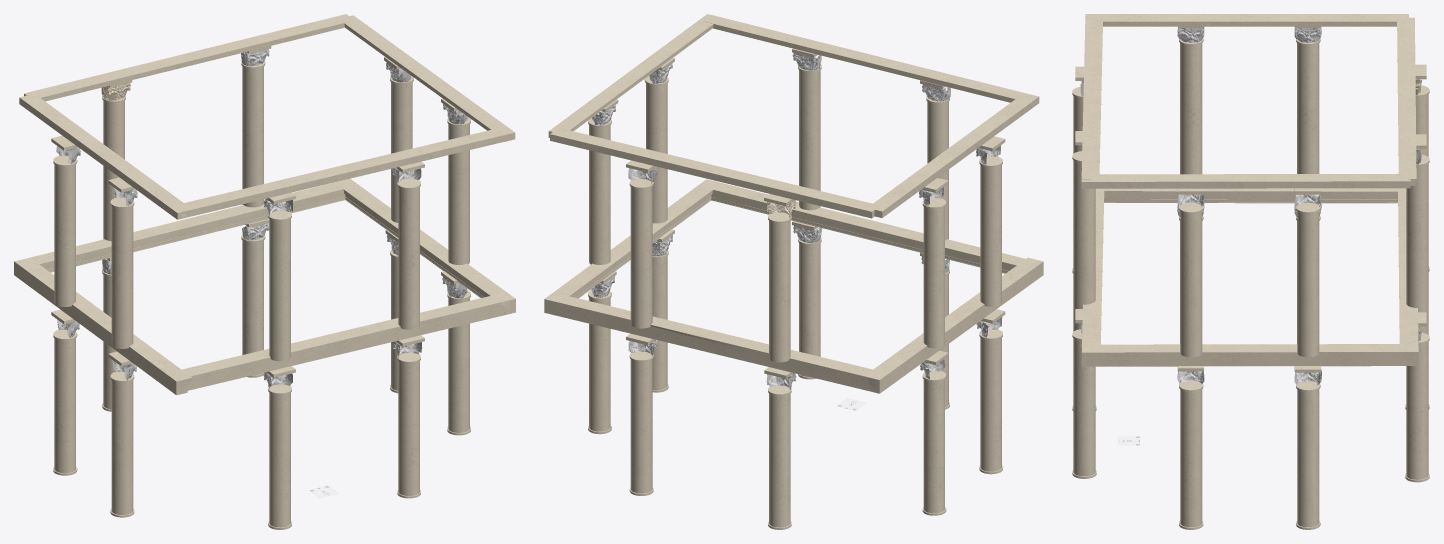
Rendered from project21.glb.
3 views of the same model, side by side, from view 1: azimuth 30°, elevation 25°; view 2: azimuth 150°, elevation 25°; view 3: azimuth 270°, elevation 25° (orthographic). The views are drawn at different scales.
Visible parts, largest first — view 1: Kovács Dóra/Horváth Lili; view 2: Kovács Dóra/Horváth Lili; view 3: Kovács Dóra/Horváth Lili.
Part boxes in pixels (x1=…): Kovács Dóra/Horváth Lili: x1=14, y1=14, x2=515, y2=529; Kovács Dóra/Horváth Lili: x1=544, y1=14, x2=1043, y2=529; Kovács Dóra/Horváth Lili: x1=1072, y1=14, x2=1429, y2=529.
Bounding box in the file's own units: 9.48 × 8.53 × 8.02.
3 materials, 2 textured.
